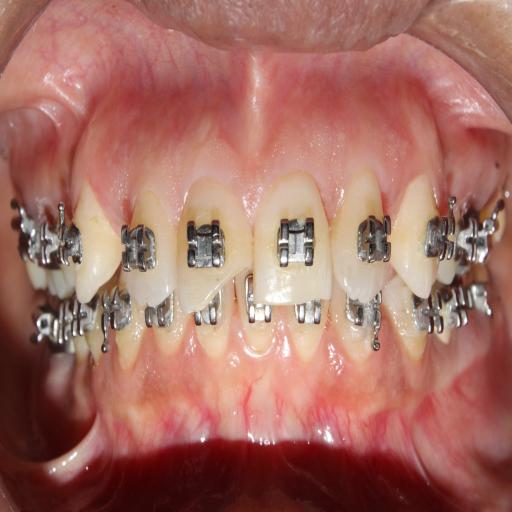correct_brace: (184, 210, 230, 281), (269, 209, 317, 274), (353, 206, 395, 275), (122, 223, 158, 276), (424, 212, 459, 263), (56, 205, 84, 266)
incorrect_brace: (334, 166, 394, 300), (120, 186, 176, 302)
